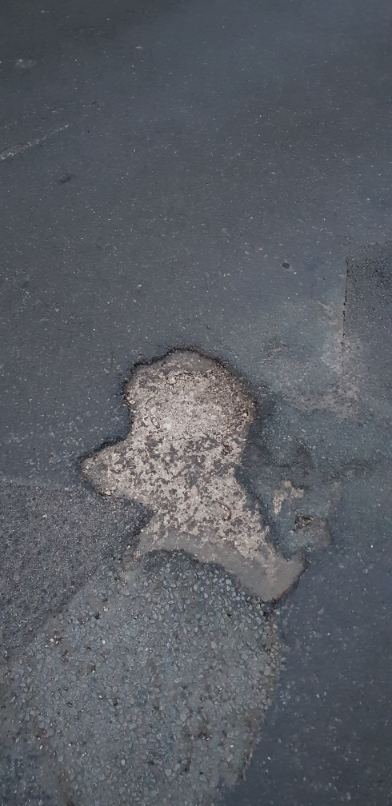pothole: (71, 343, 313, 615)
